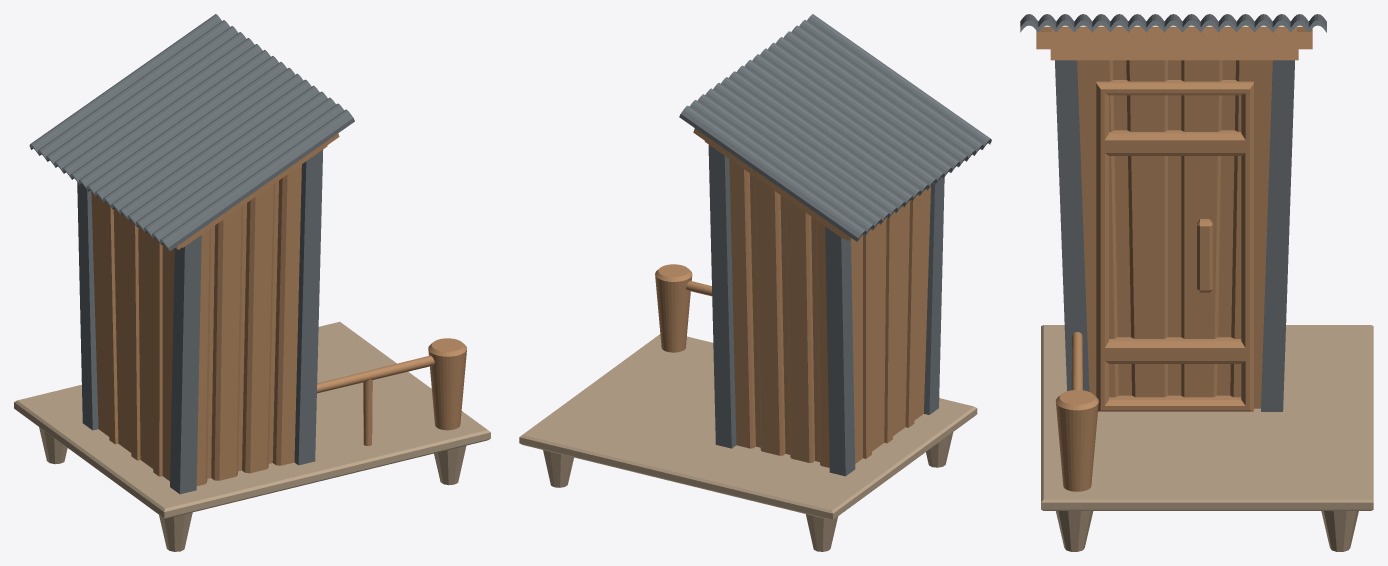
Rendered from Loo.fbx.
3 renders of one model, left to right at view 1: azimuth 30°, elevation 25°; view 2: azimuth 150°, elevation 25°; view 3: azimuth 270°, elevation 25°, orthographic. The views are drawn at different scales.
Parts seen in each view (by area): view 1: Cylinder; view 2: Cylinder; view 3: Cylinder.
Part boxes in pixels (x1,y1,x2,y2): Cylinder: [14, 14, 490, 551]; Cylinder: [519, 14, 991, 551]; Cylinder: [1020, 14, 1373, 551].
Bounding box in the file's own units: 1414 × 1681 × 1168.
